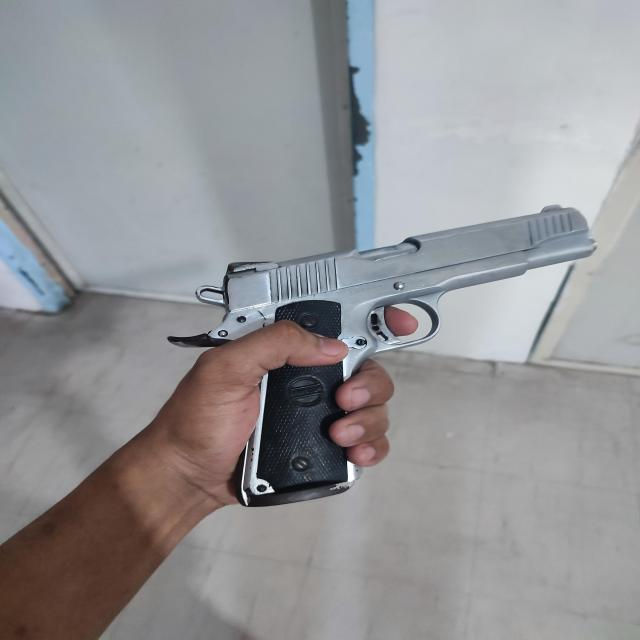pistol: (167, 204, 598, 499)
